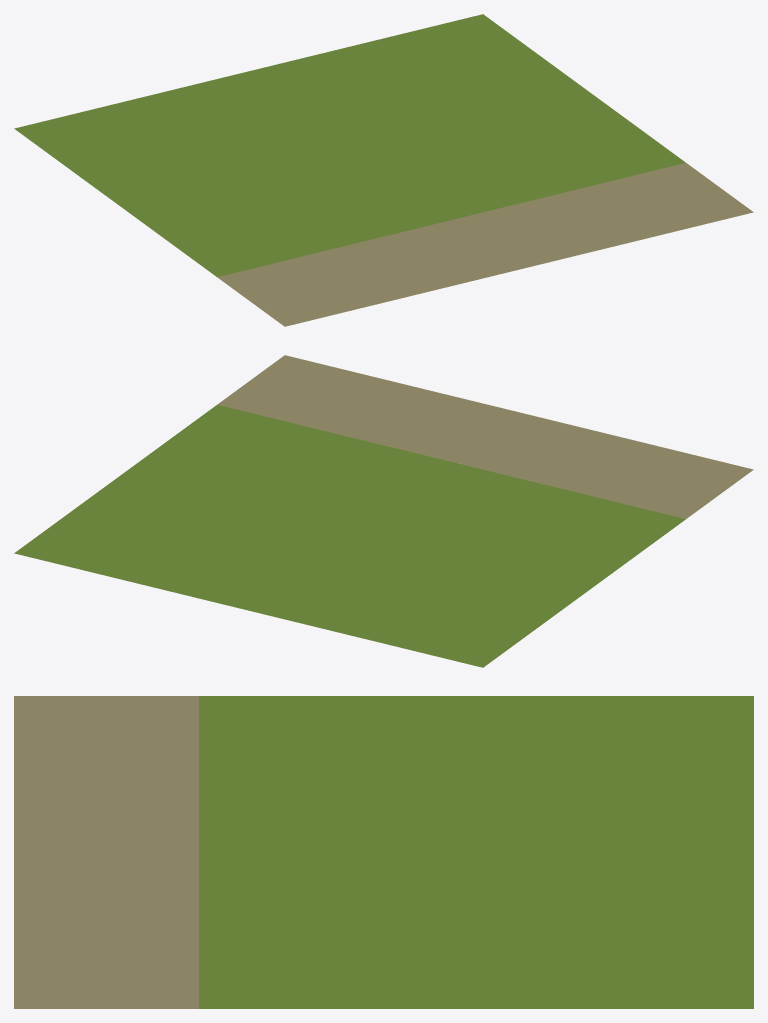
Rendered from cure-0-0.glb.
The picture shows the model from 3 angles, top to bottom: view 1: azimuth 30°, elevation 25°; view 2: azimuth 150°, elevation 25°; view 3: azimuth 270°, elevation 25°; orthographic projection. The views are drawn at different scales.
Visible parts, largest first — view 1: cure-0-0; view 2: cure-0-0; view 3: cure-0-0.
Part boxes in pixels (bbox=[...]): cure-0-0: bbox=[14, 14, 753, 326]; cure-0-0: bbox=[14, 355, 753, 667]; cure-0-0: bbox=[14, 696, 753, 1008].
Size of the model in its own units: 100 by 0.002 by 100.
